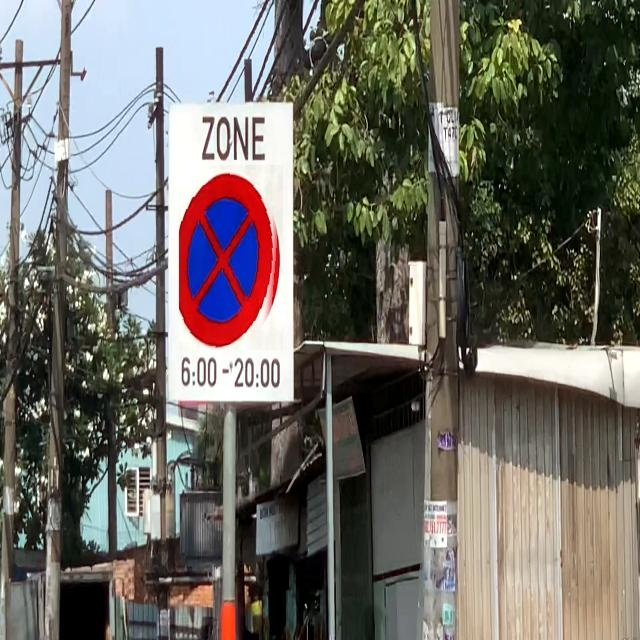bien_cam: (179, 165, 283, 350)
